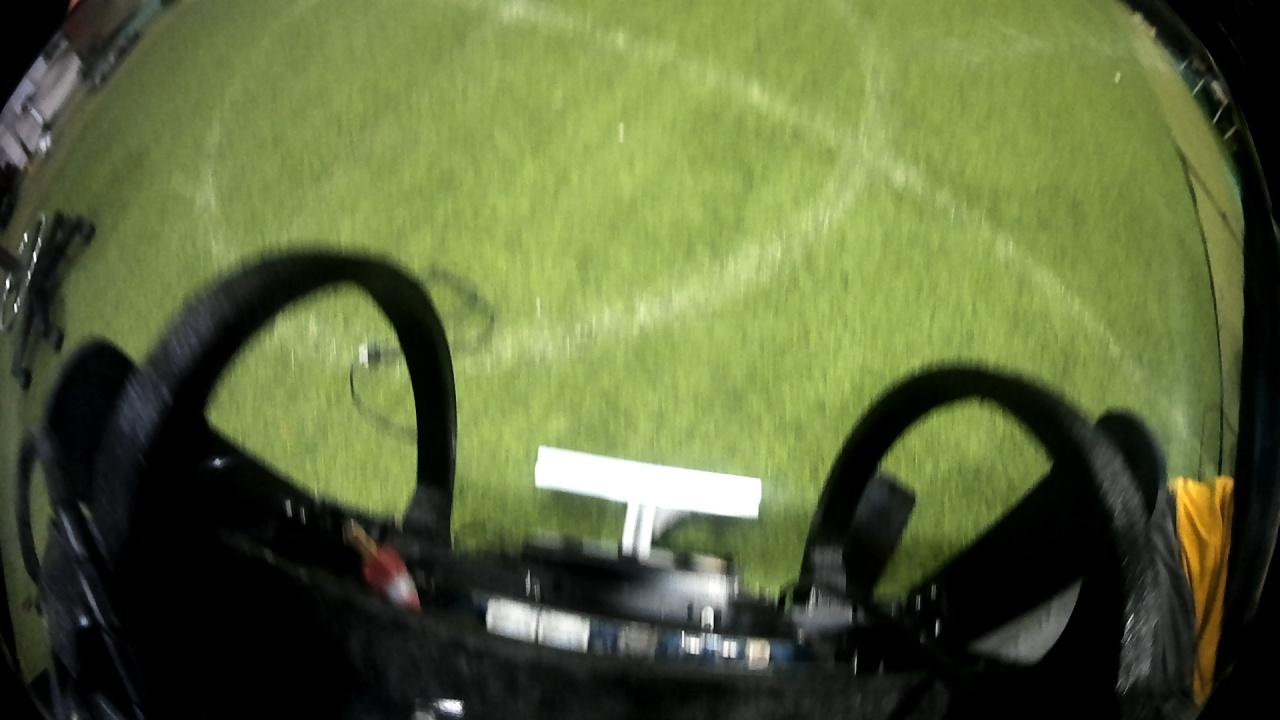ball: (37, 130, 52, 162)
